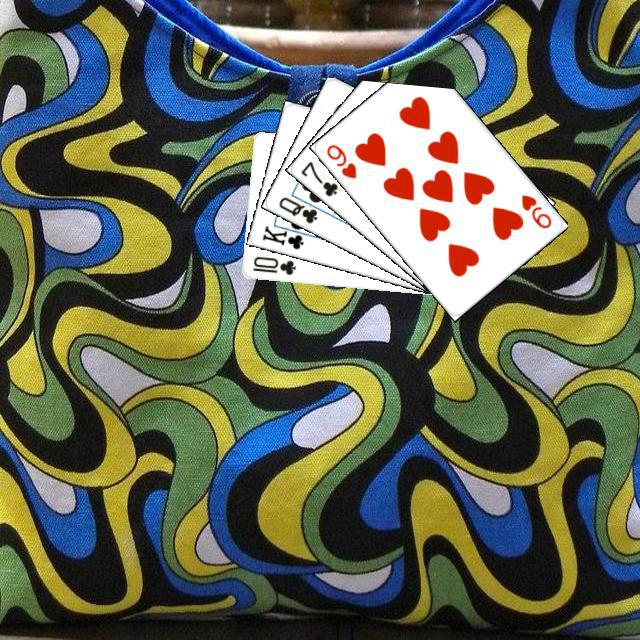10c: (248, 251, 297, 277)
7c: (296, 156, 340, 198)
9h: (321, 139, 358, 181), (516, 189, 553, 230)
Kc: (257, 218, 312, 251)
Qc: (274, 187, 327, 225)
